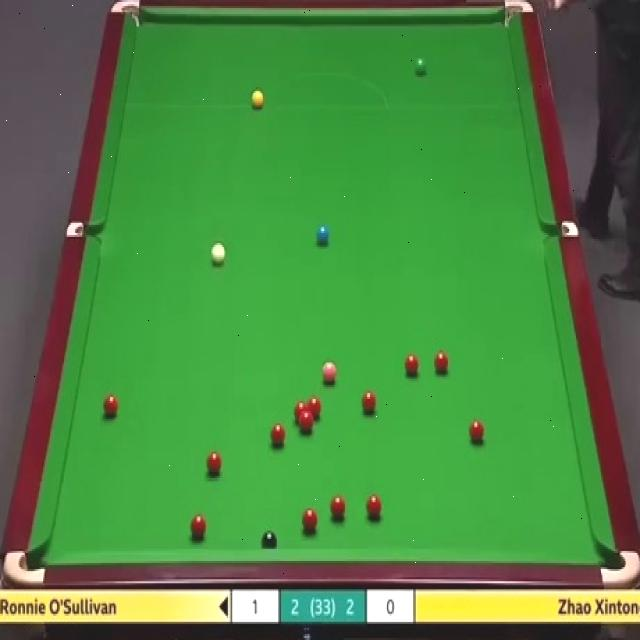black-ball: (261, 531, 277, 549)
blue-ball: (314, 221, 330, 246)
green-ball: (412, 57, 428, 76)
pink-ball: (322, 357, 338, 384)
red-ball: (403, 352, 420, 381), (103, 393, 121, 420), (206, 449, 222, 477), (190, 513, 207, 539), (468, 421, 485, 447), (366, 493, 382, 520), (302, 507, 318, 533), (330, 494, 346, 520), (361, 390, 376, 416), (308, 396, 322, 422), (434, 352, 449, 376), (271, 423, 285, 446), (294, 401, 308, 421), (300, 414, 313, 434)
white-ball: (210, 241, 227, 266)
yellow-ball: (250, 88, 264, 108)
